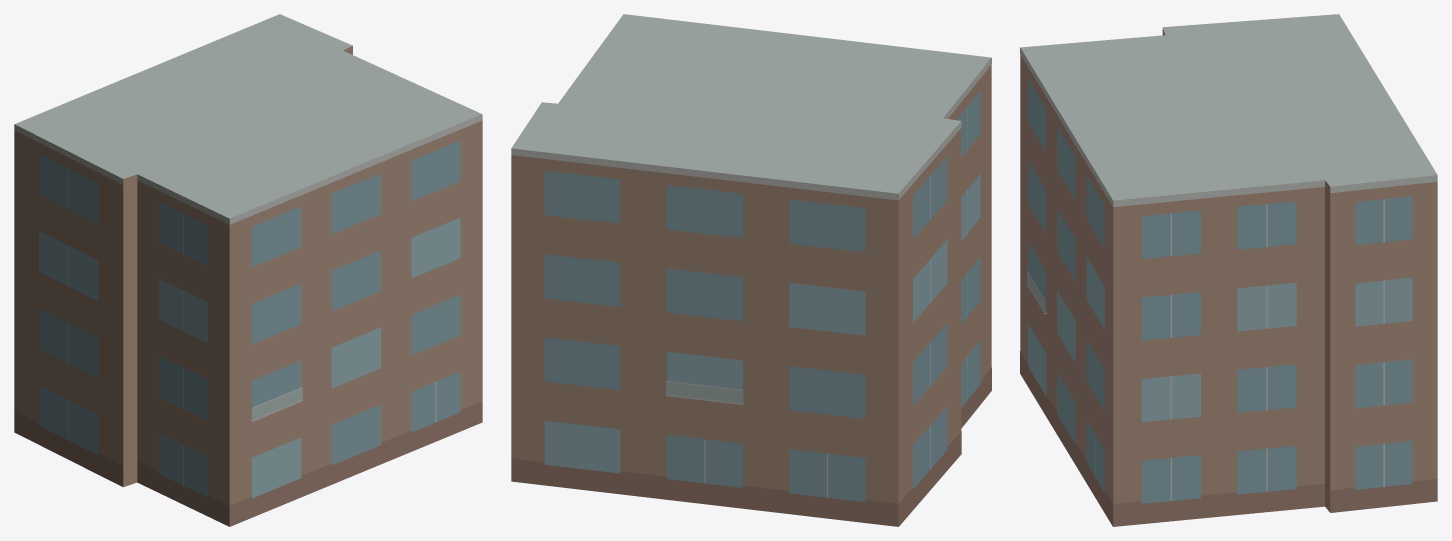
Rendered from survey-upis-32668798.glb.
3 views of the same model, side by side, from view 1: azimuth 30°, elevation 25°; view 2: azimuth 150°, elevation 25°; view 3: azimuth 270°, elevation 25° (orthographic). The views are drawn at different scales.
Visible parts, largest first — view 1: survey-upis-32668798.tmp; view 2: survey-upis-32668798.tmp; view 3: survey-upis-32668798.tmp.
Part boxes in pixels (box(x1,y1,x2,y2)): survey-upis-32668798.tmp: box(14, 14, 482, 526); survey-upis-32668798.tmp: box(511, 14, 991, 526); survey-upis-32668798.tmp: box(1020, 14, 1437, 526).
Size of the model in its own units: 14.98 by 12.2 by 14.16.
